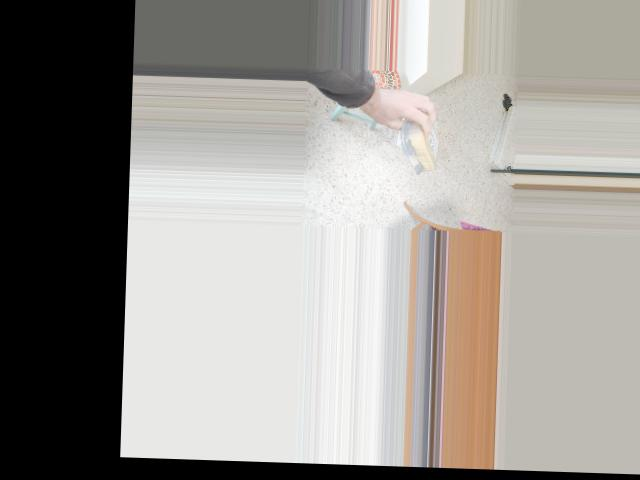cheese: (405, 108, 440, 175)
